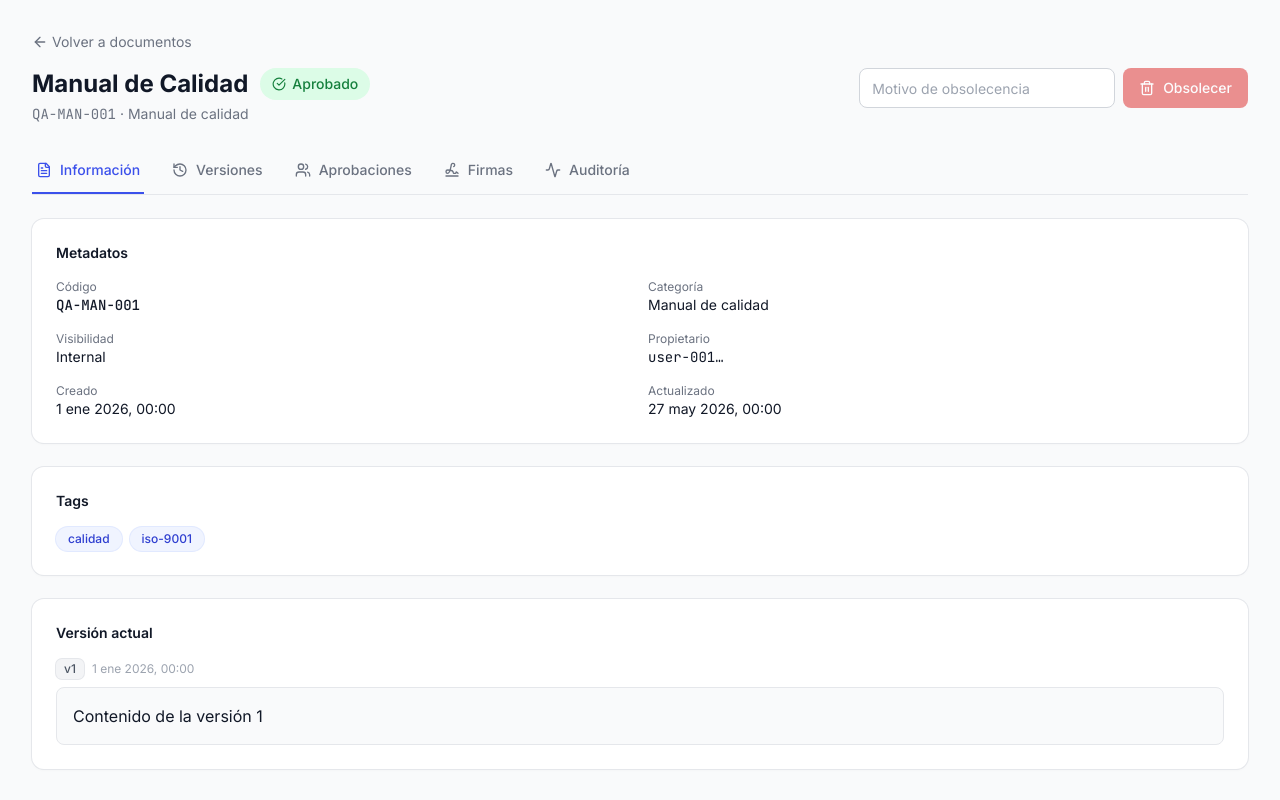
it: DocumentDetailPage › tab de firmas muestra las firmas existentes
Check: the heading "Manual de Calidad" is shown, box [32,68,248,100]
Click the tab "Firmas".
click(478, 171)  # box [440,148,517,194]
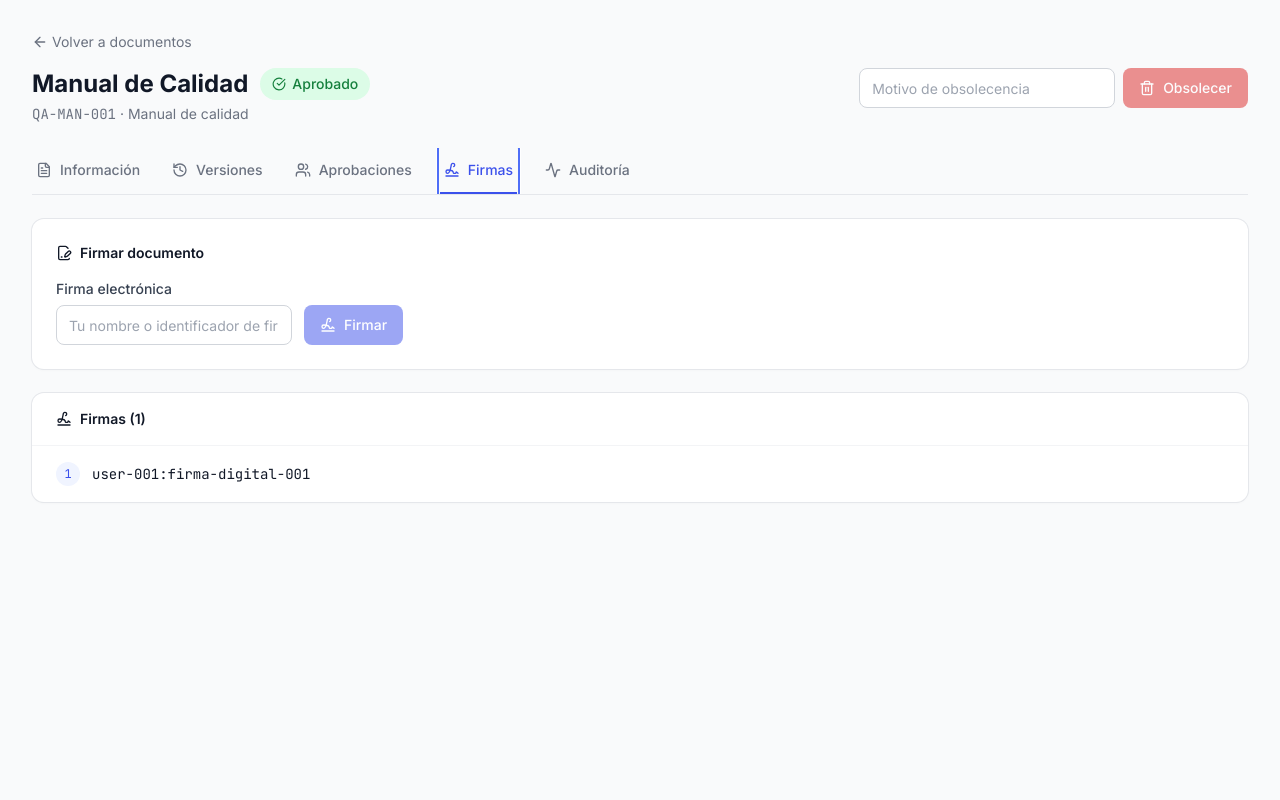
Check: the list item "user-001:firma-digital-001" is shown, box [92,465,310,483]
